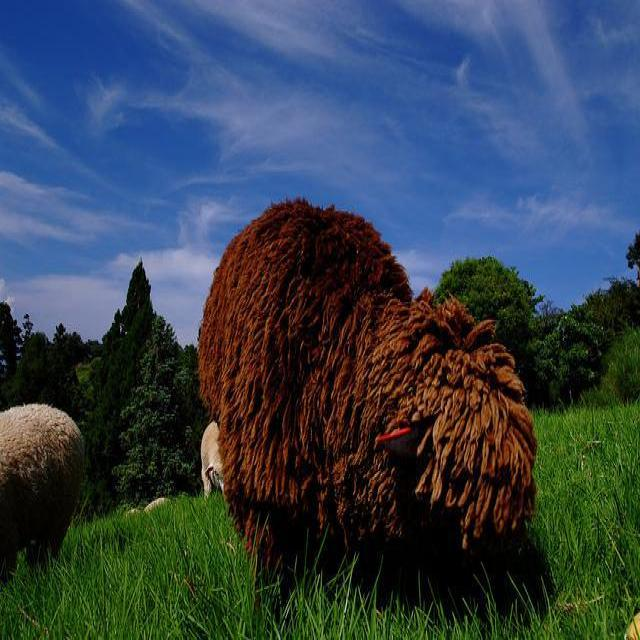Sheep: (198, 202, 532, 571), (1, 402, 83, 585)
